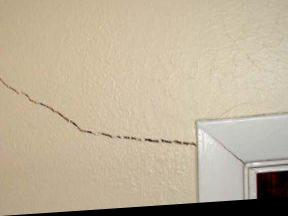crack: (0, 78, 195, 149)
